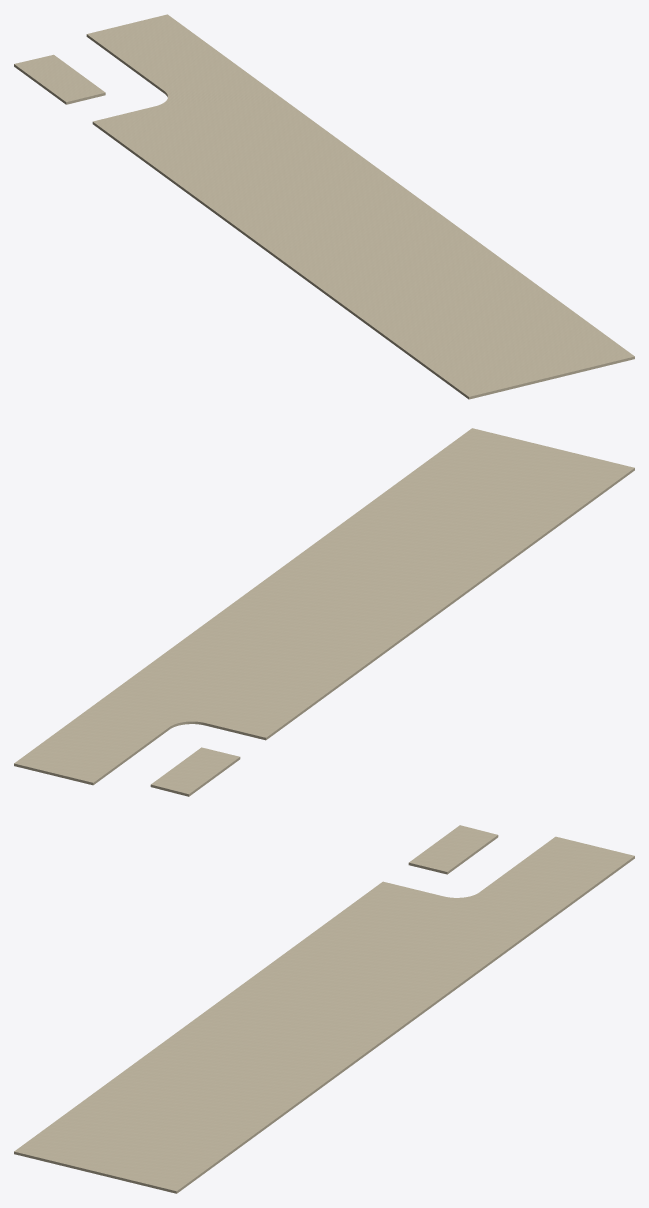
File: COURT_D09_SA_02__floor.glb
The picture shows the model from 3 angles, top to bottom: view 1: azimuth 30°, elevation 25°; view 2: azimuth 150°, elevation 25°; view 3: azimuth 330°, elevation 25°; orthographic projection. The views are drawn at different scales.
Visible parts, largest first — view 1: COURT_D09_SA_02__floor__warm_stone; view 2: COURT_D09_SA_02__floor__warm_stone; view 3: COURT_D09_SA_02__floor__warm_stone.
Part boxes in pixels (box(x1,y1,x2,y2)): COURT_D09_SA_02__floor__warm_stone: box(14, 14, 634, 399); COURT_D09_SA_02__floor__warm_stone: box(14, 428, 634, 796); COURT_D09_SA_02__floor__warm_stone: box(14, 825, 634, 1193).
Bounding box in the file's own units: 16 × 0.24 × 78.
Materials: 1 (1 with a texture image).
